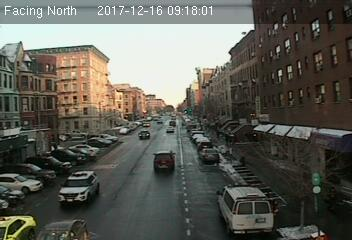car: (151, 150, 177, 172), (199, 147, 221, 163), (138, 129, 151, 140)
police: (216, 180, 275, 235), (59, 170, 101, 207)
